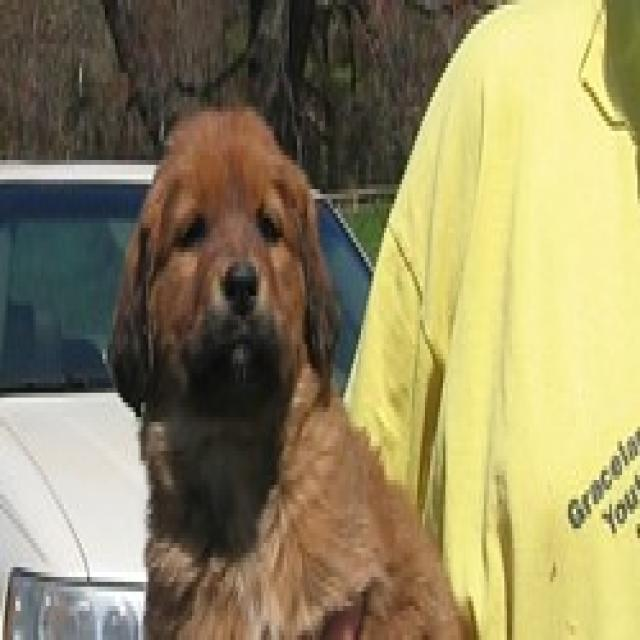Dogs: (105, 97, 476, 635)
